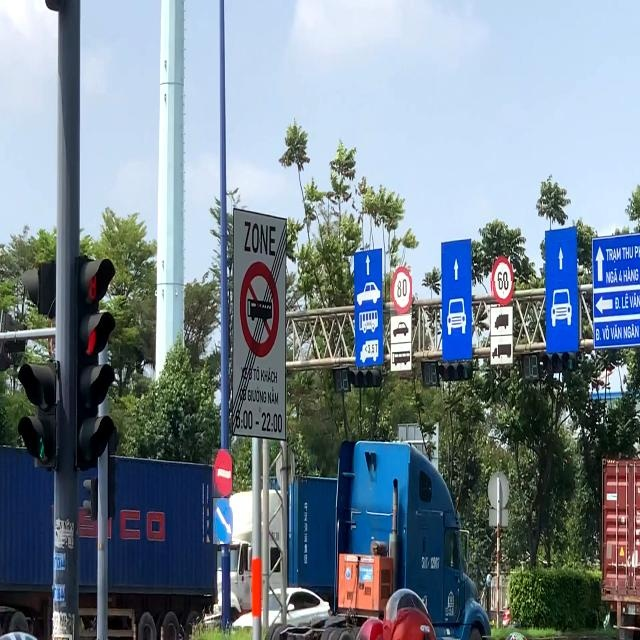bien_chi_dan: (490, 255, 513, 305), (390, 266, 412, 316), (212, 449, 232, 497), (213, 498, 233, 544)
